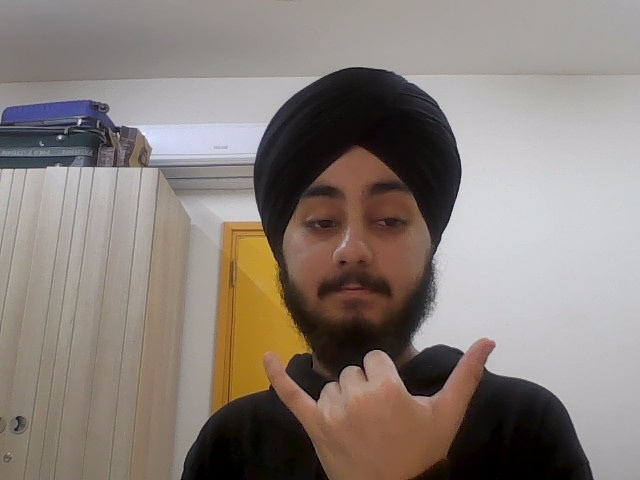Wrong: (254, 333, 497, 480)
